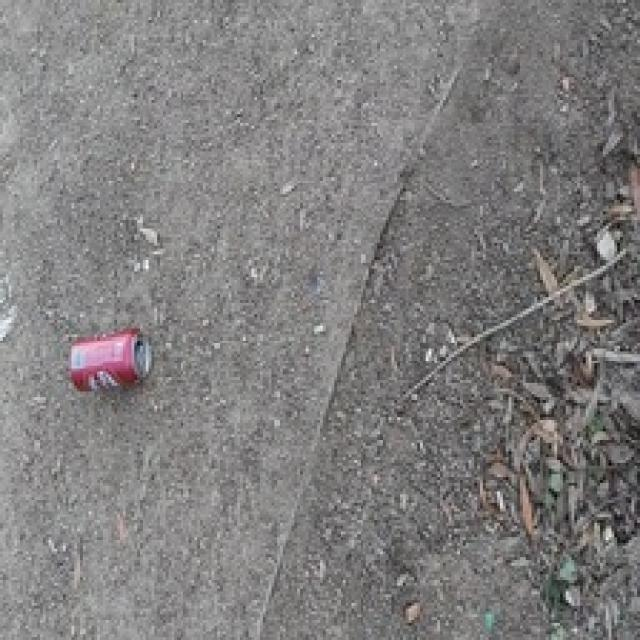recyclable: (68, 328, 154, 396)
